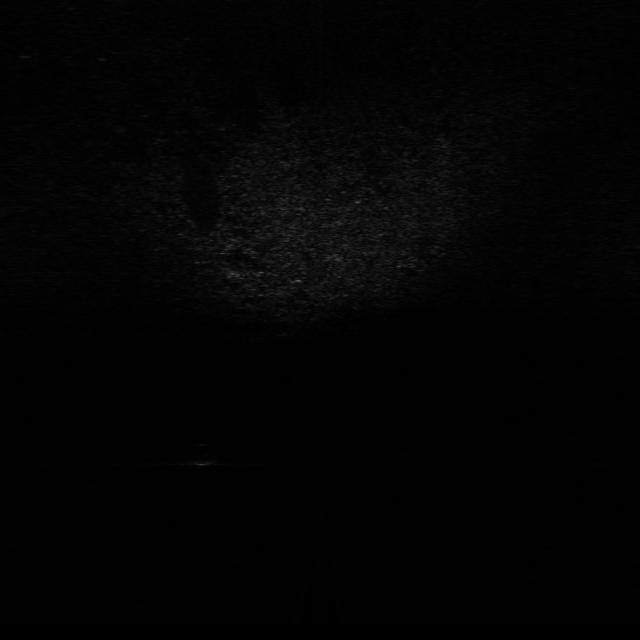ball: (182, 436, 223, 468)
